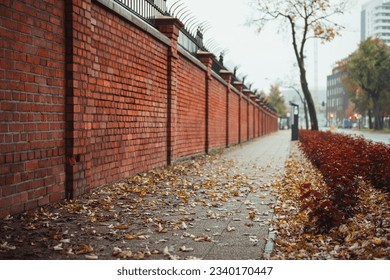Wall: (10, 4, 119, 180), (128, 41, 177, 159), (179, 79, 214, 150)
